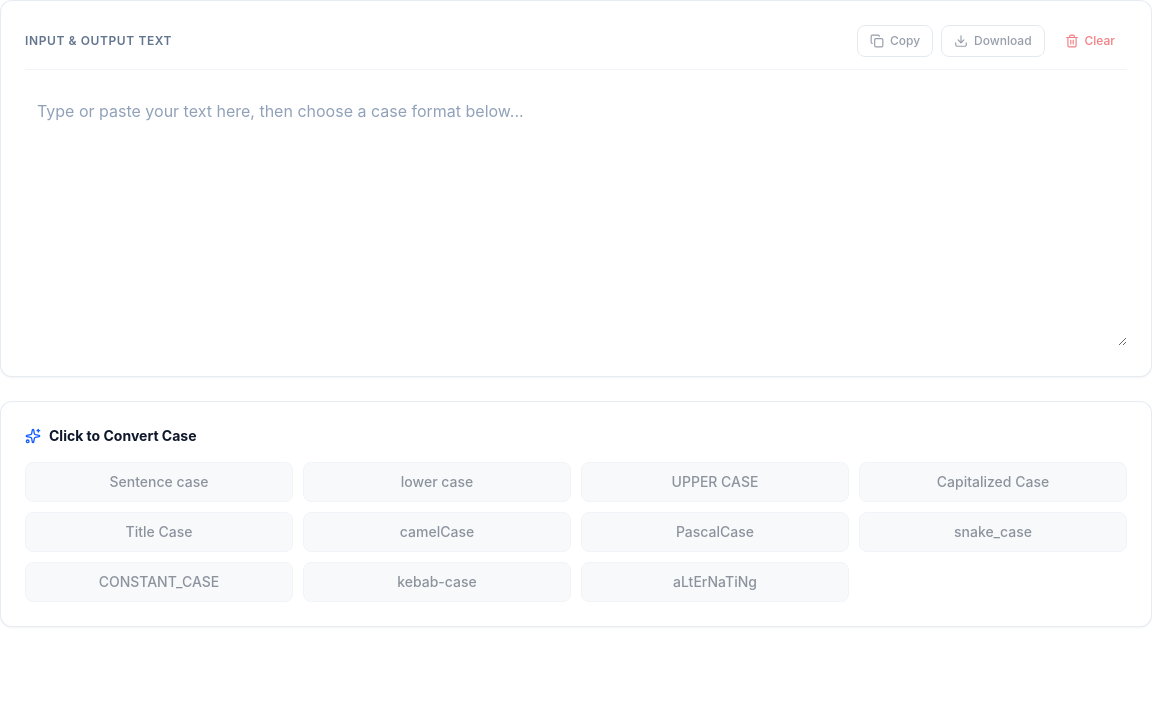
TEXT & DEVELOPER TOOLS (8/8) › Case Converter › edge: converts Title Case and camelCase with Unicode characters
The width and height of the screenshot is (1152, 720).
Replace the text in the text box named "case converter text area" with "über café latte" at (576,216), box top-left (25, 86), bottom-right (1127, 346)
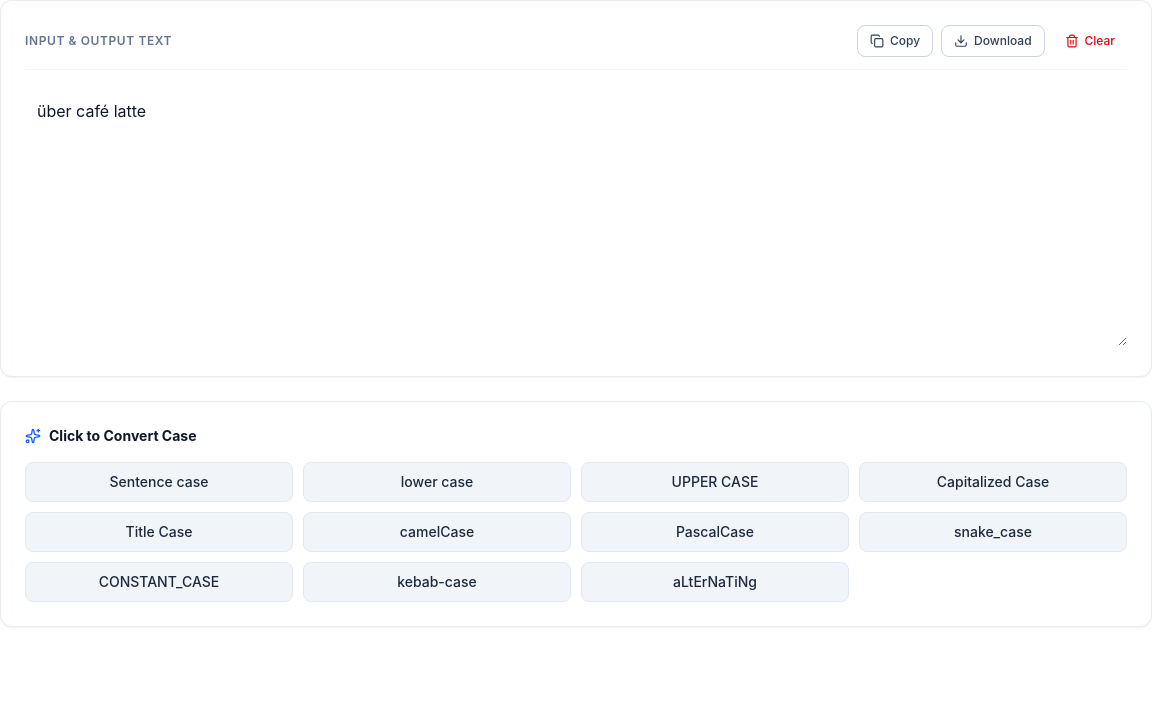
Note: Title Case
Click the button "Title Case" at (159,532), box top-left (25, 512), bottom-right (293, 552)
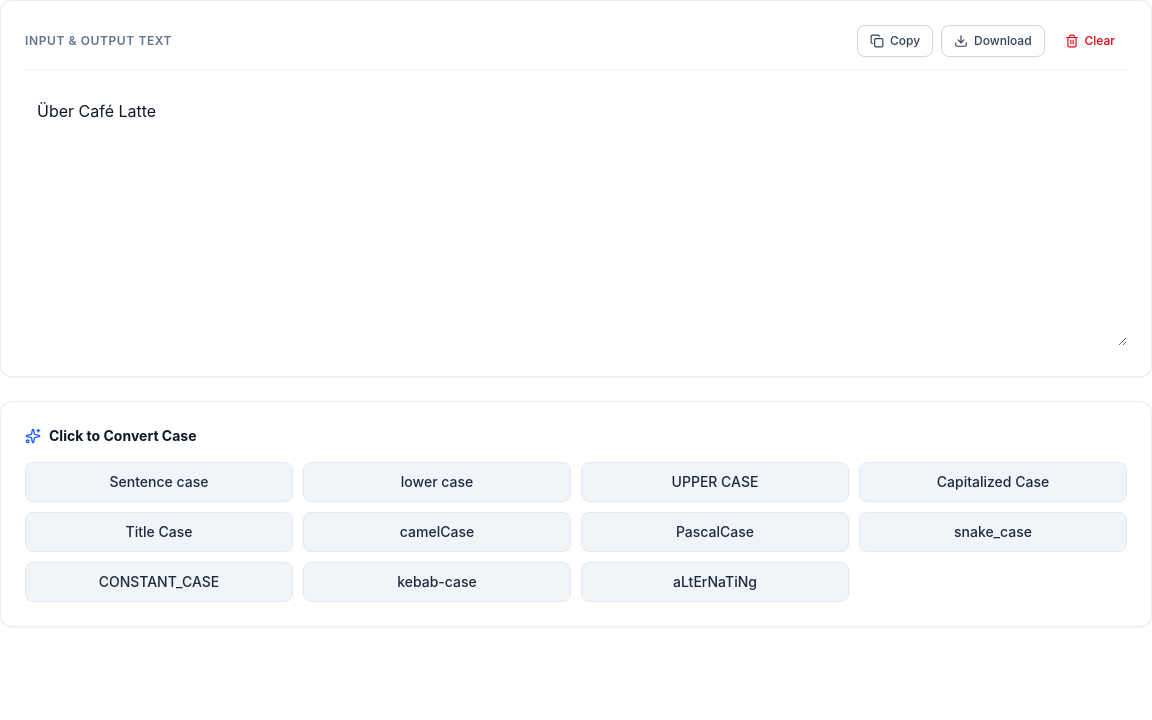
Click the button "camelCase" at (437,532), box top-left (303, 512), bottom-right (571, 552)
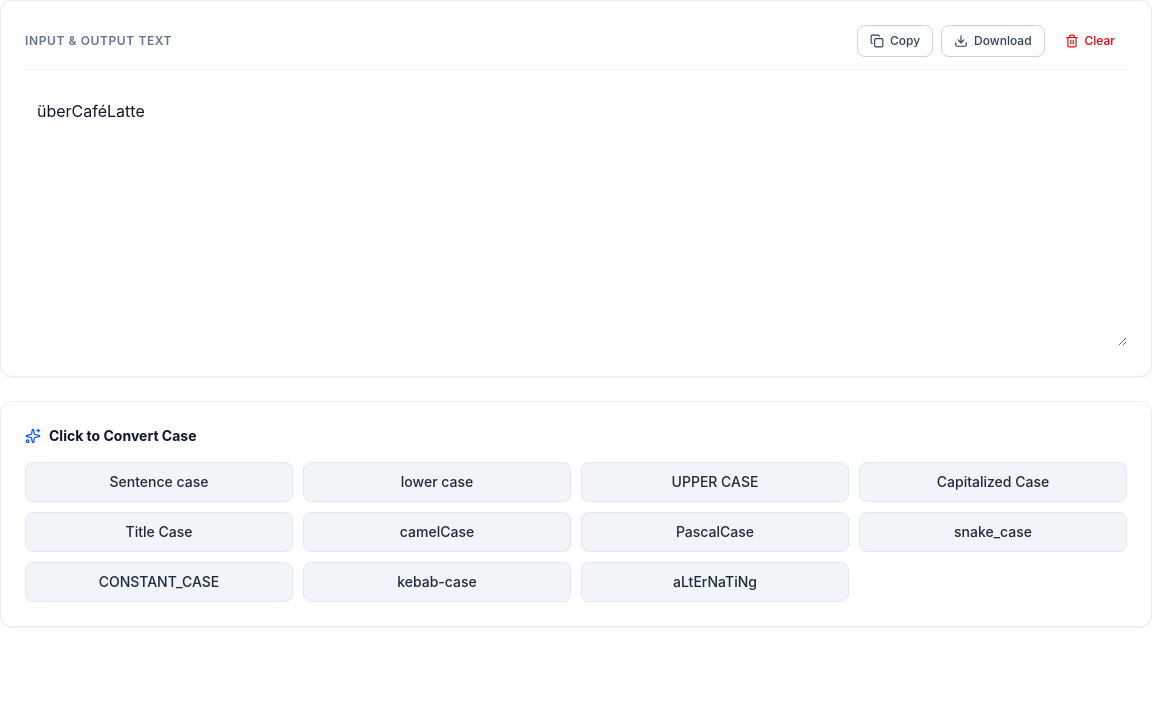
Check: the text box named "case converter text area" holds "überCaféLatte", box top-left (25, 86), bottom-right (1127, 346)
